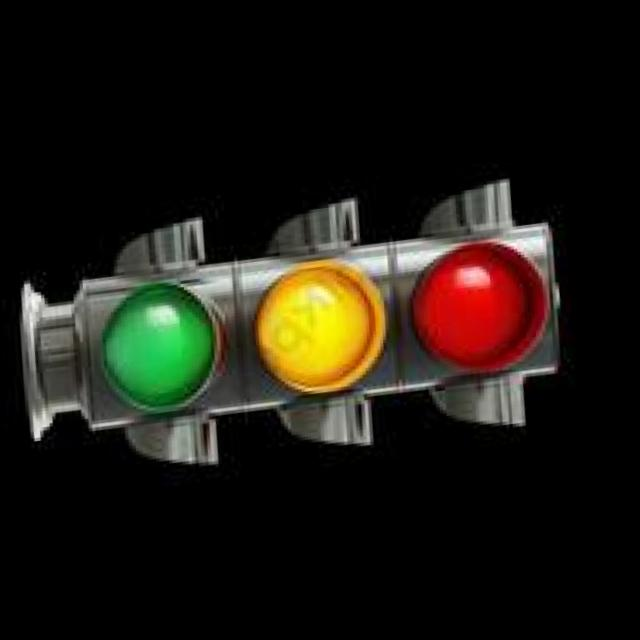green_light: (67, 237, 257, 473)
red_light: (382, 205, 603, 433)
yellow_light: (195, 170, 462, 463)
